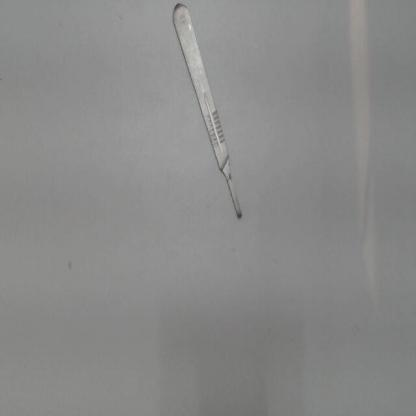No.4 BP Handle: (159, 3, 255, 234)
